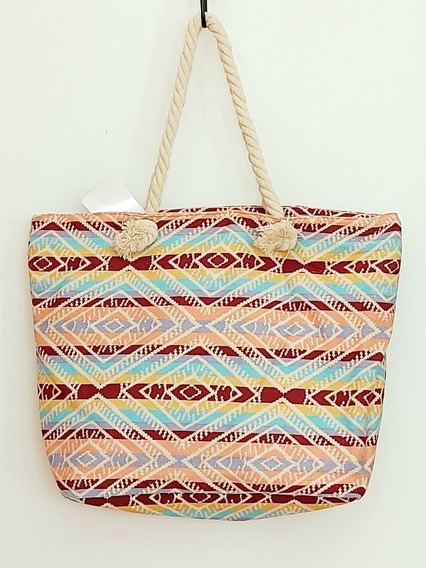cartera: (26, 10, 405, 521)
